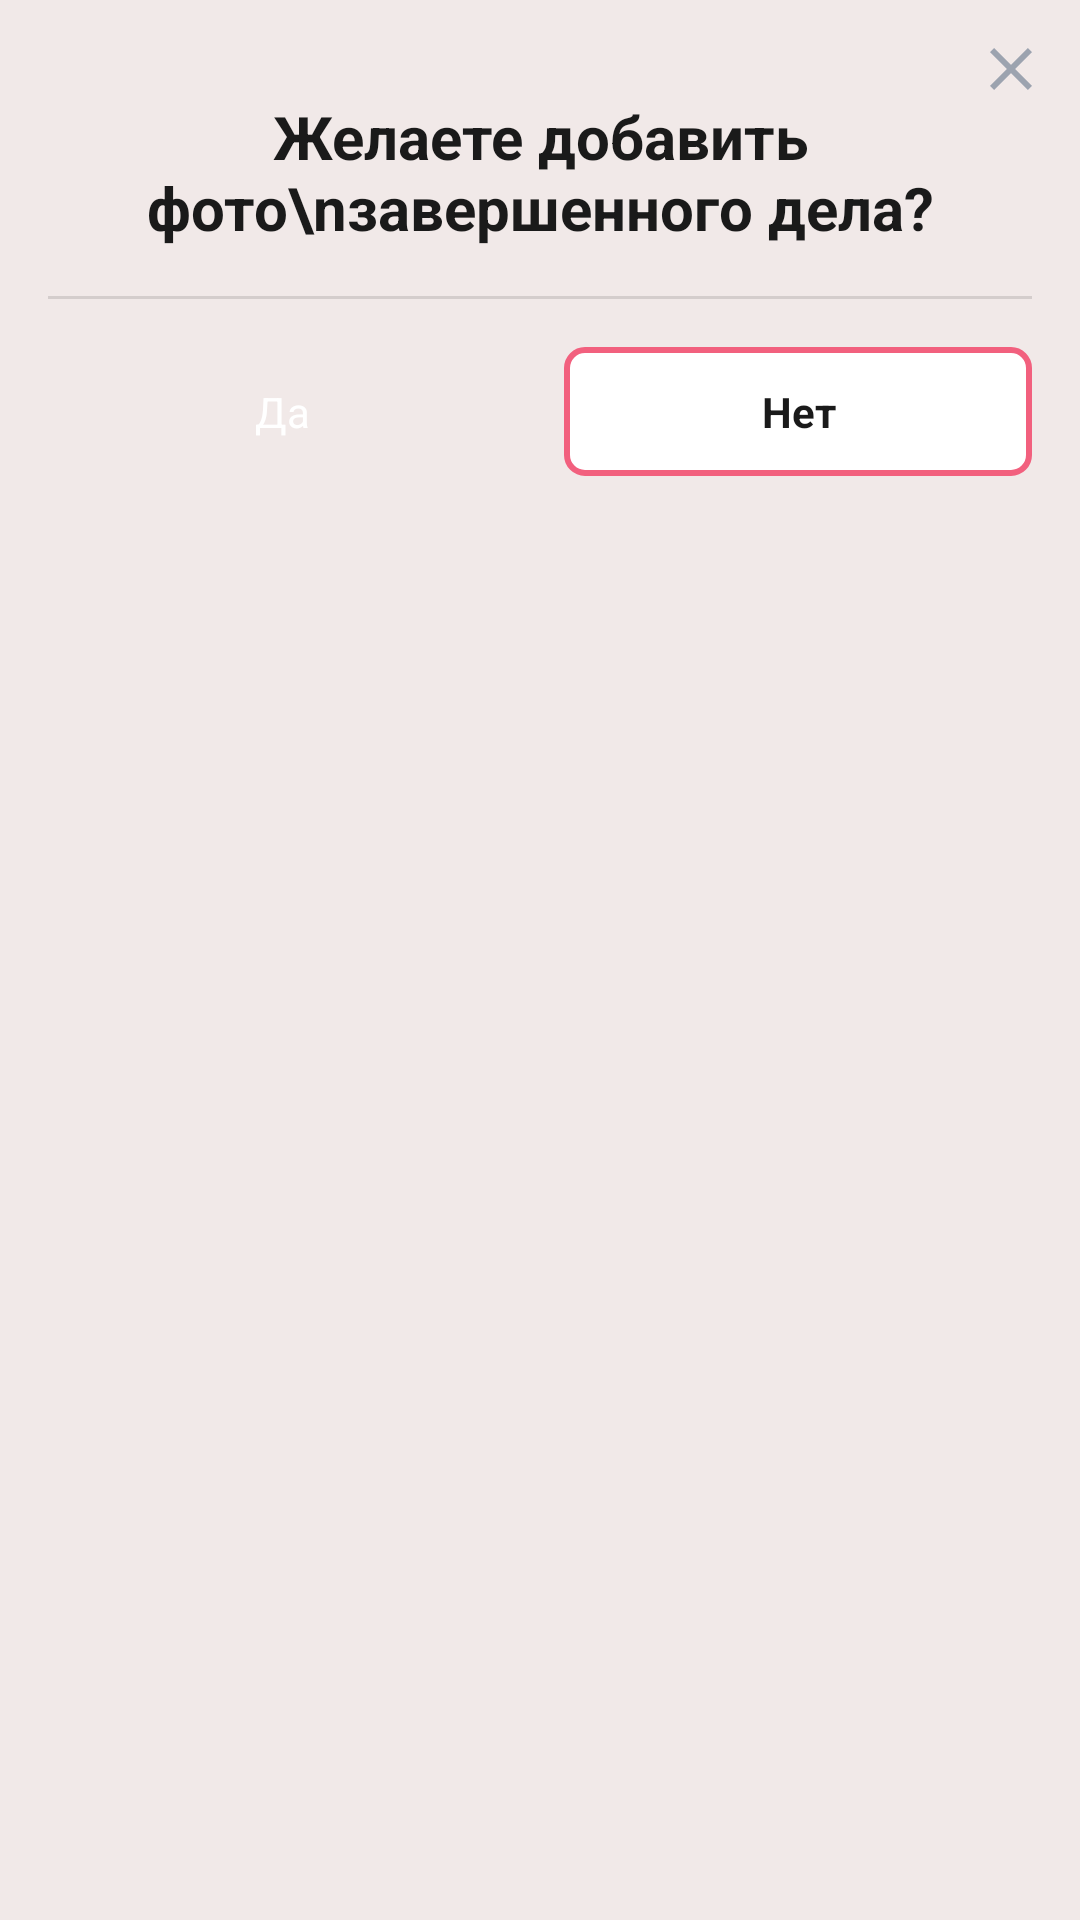

Where to tap for icons on this 1080px×1920px app screen, as [x,y]:
close: [1011,69]
